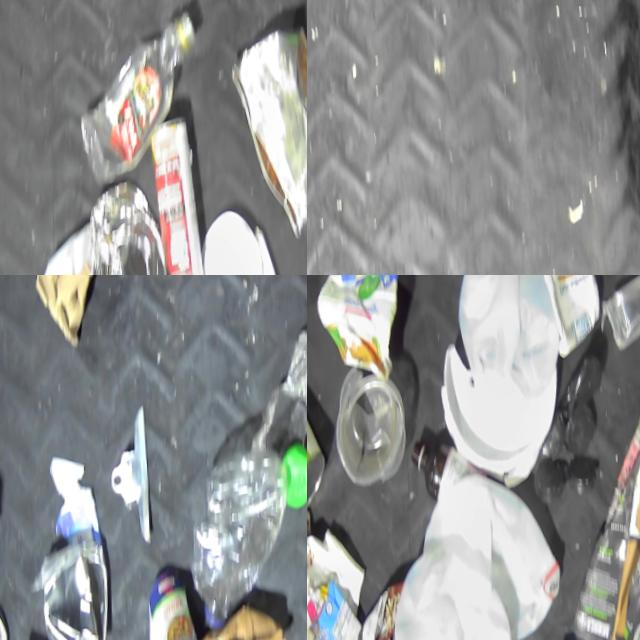can: (229, 25, 307, 249), (147, 117, 209, 275), (86, 181, 169, 275), (42, 544, 111, 640), (147, 571, 201, 640), (307, 384, 329, 528)
milk_jug: (419, 469, 566, 640), (454, 275, 563, 411), (390, 542, 527, 640), (37, 221, 155, 275)
plastic_bottle: (75, 15, 203, 193), (189, 455, 293, 637)
